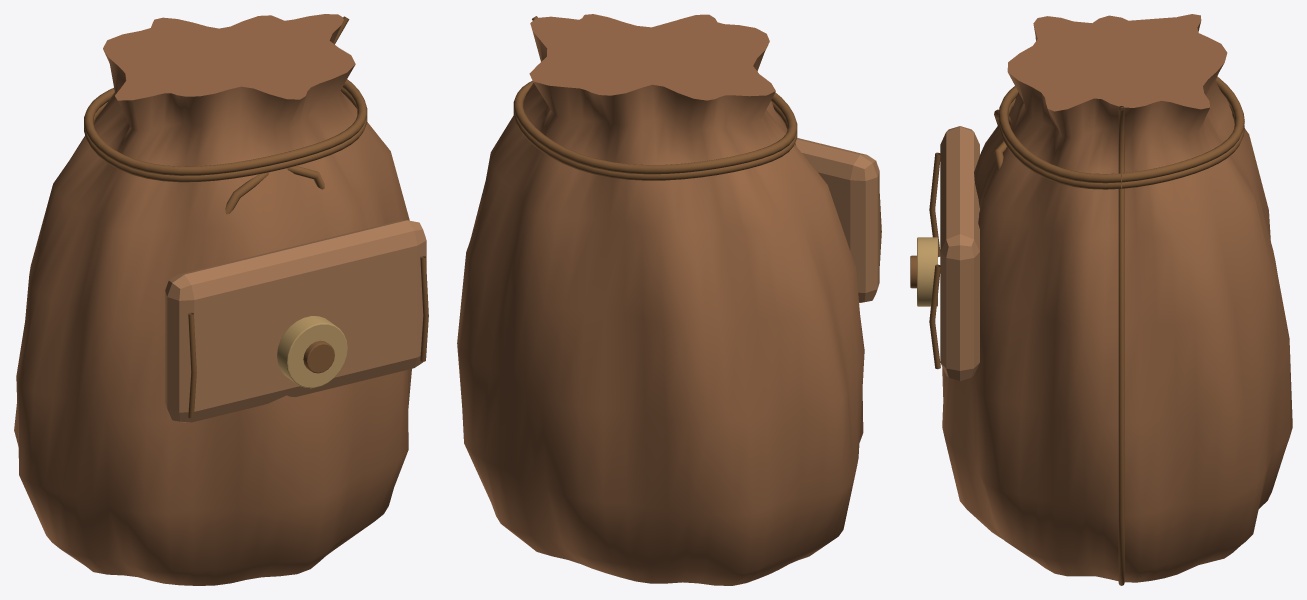
Rendered from bag1.glb.
The picture shows the model from 3 angles, left to right: view 1: azimuth 30°, elevation 25°; view 2: azimuth 150°, elevation 25°; view 3: azimuth 270°, elevation 25°; orthographic projection.
Parts seen in each view (by area): view 1: Chestnut leather, Rubbed front flap leather, Bound seam cord.001, Stamped clasp brass; view 2: Chestnut leather, Rubbed front flap leather, Bound seam cord.001; view 3: Chestnut leather, Bound seam cord.001, Rubbed front flap leather, Stamped clasp brass.
Part boxes in pixels (x1,y1,x2,y2): Chestnut leather: [14, 14, 411, 585]; Rubbed front flap leather: [165, 220, 426, 422]; Bound seam cord.001: [84, 16, 428, 418]; Stamped clasp brass: [277, 316, 347, 388]; Chestnut leather: [457, 14, 864, 585]; Rubbed front flap leather: [795, 138, 879, 302]; Bound seam cord.001: [513, 16, 881, 265]; Chestnut leather: [942, 14, 1292, 582]; Bound seam cord.001: [910, 76, 1244, 585]; Rubbed front flap leather: [940, 126, 979, 380]; Stamped clasp brass: [917, 237, 937, 306].
Size of the model in its own units: 0.3709 by 0.4526 by 0.3294.
